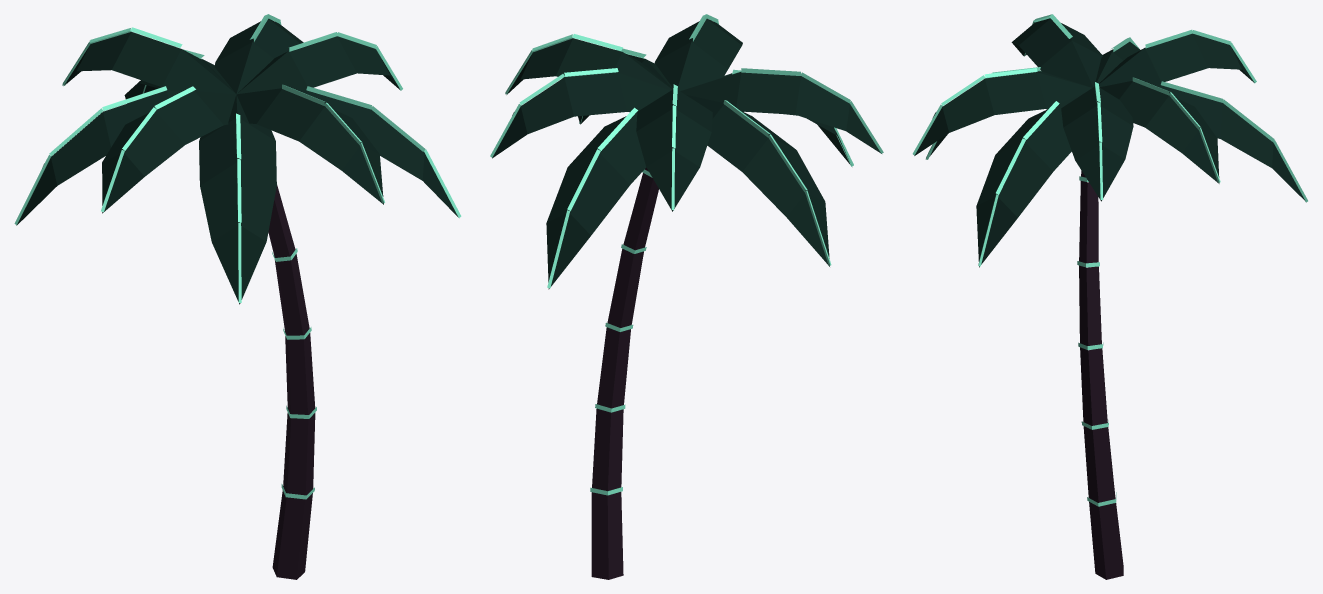
Rendered from palm.glb.
3 views of the same model, side by side, from view 1: azimuth 30°, elevation 25°; view 2: azimuth 150°, elevation 25°; view 3: azimuth 270°, elevation 25° (orthographic). The views are drawn at different scales.
Visible parts, largest first — view 1: root; view 2: root; view 3: root.
Part boxes in pixels (x1=…): root: x1=14, y1=14, x2=461, y2=579; root: x1=490, y1=14, x2=883, y2=579; root: x1=912, y1=14, x2=1307, y2=579.
Size of the model in its own units: 6.26 by 8.99 by 6.52.
